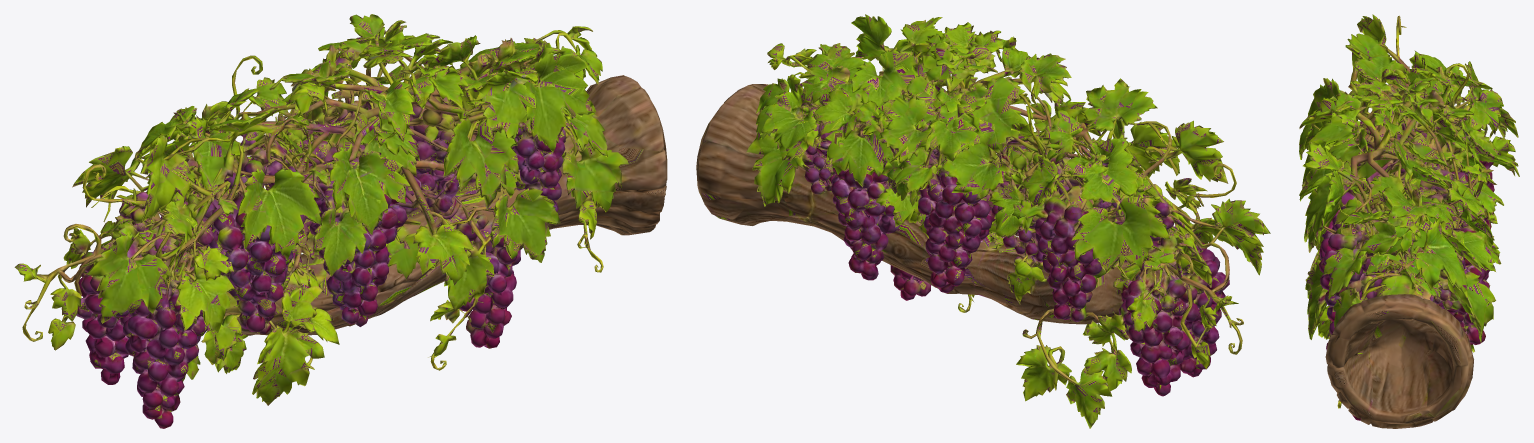
File: branch_grape.glb
3 views of the same model, side by side, from view 1: azimuth 30°, elevation 25°; view 2: azimuth 150°, elevation 25°; view 3: azimuth 270°, elevation 25° (orthographic). The views are drawn at different scales.
Bounding box in the file's own units: 1.9 × 1.09 × 0.6642.
1 material, 1 textured.
